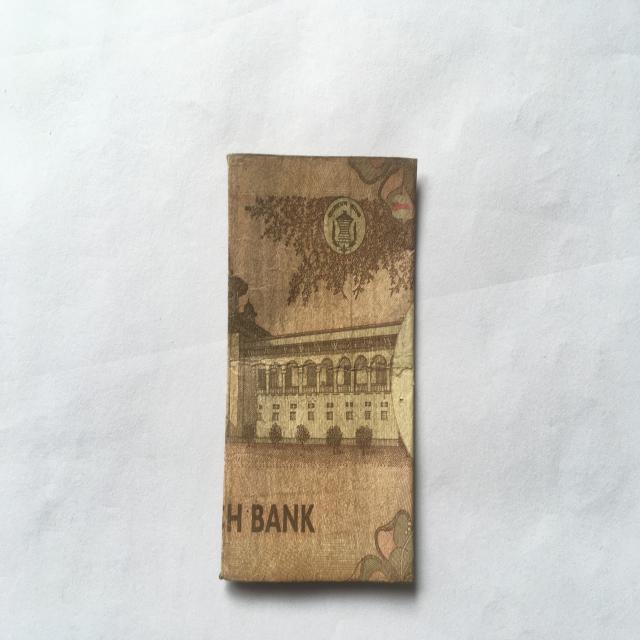Taka: (220, 145, 422, 596)
